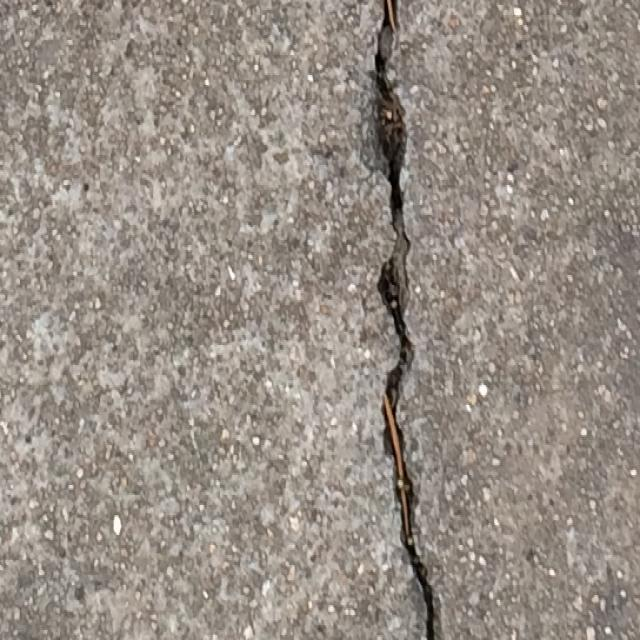Longitudinal: (354, 0, 459, 640)
